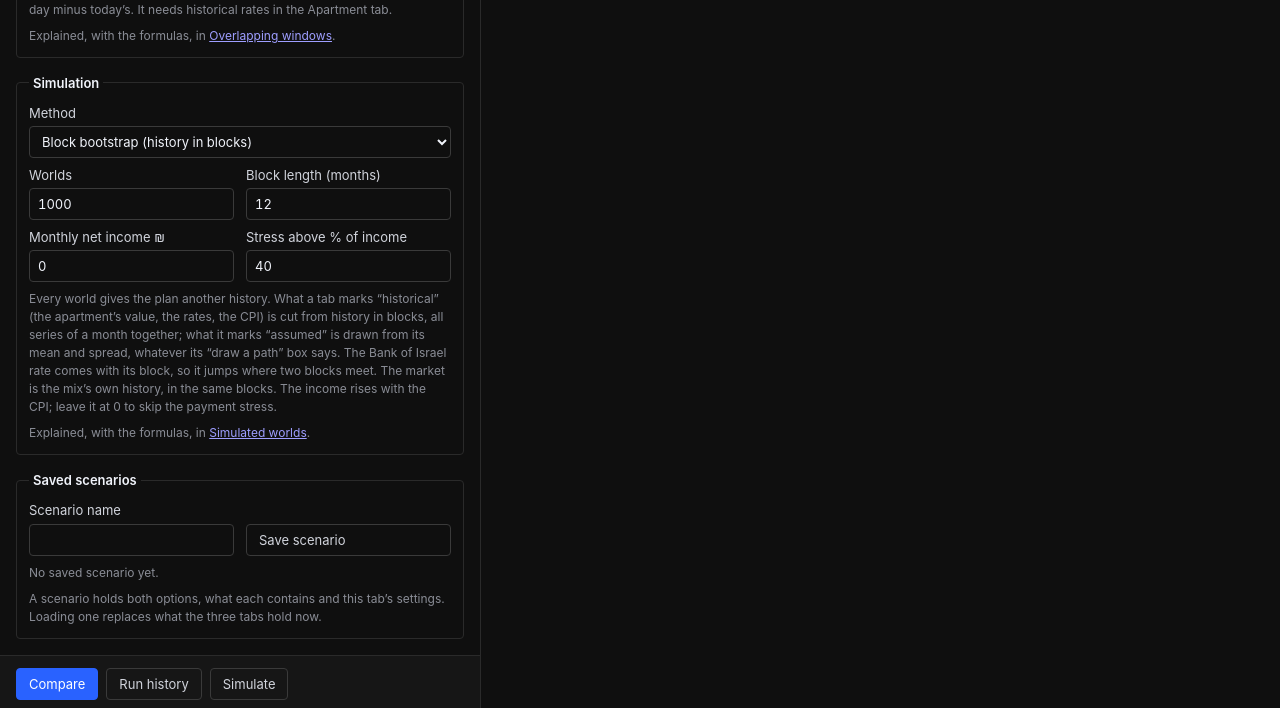
Scenario: PlannerCompare › shows why a comparison cannot run and drops the earlier results
(page scrolled)
Click the button "Compare".
click(57, 684)  # box [16,668,98,700]
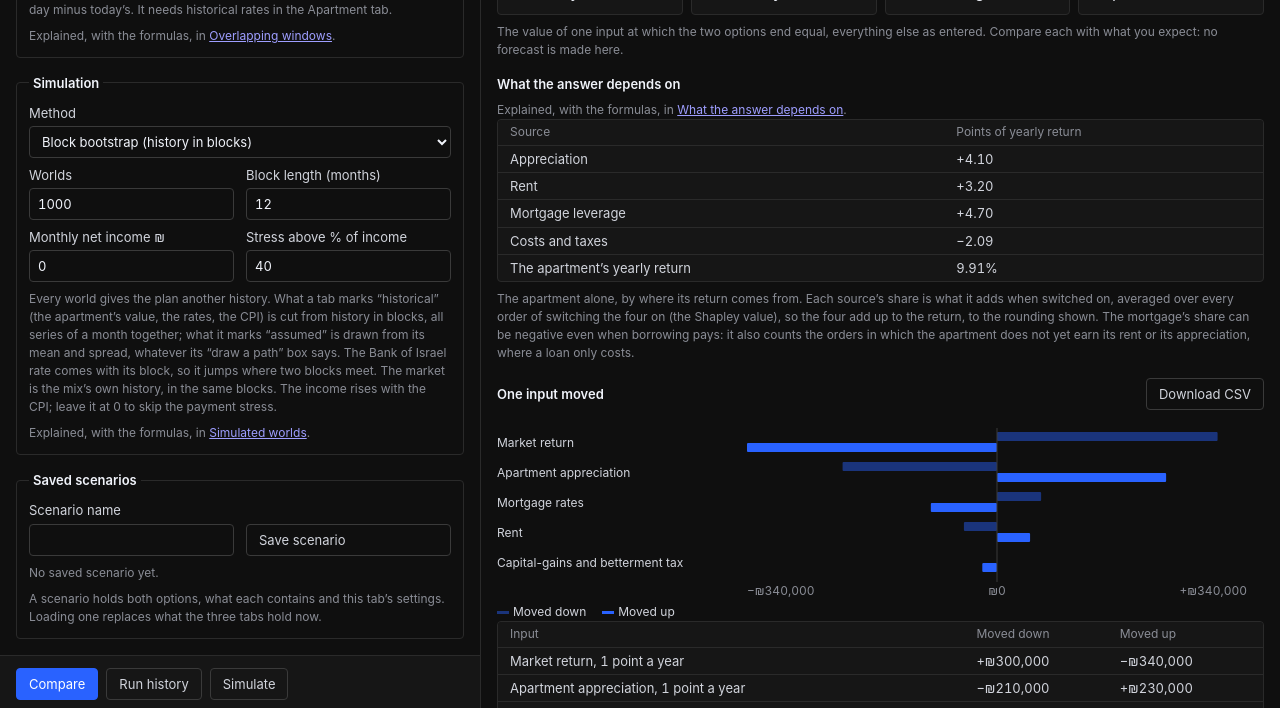
Click the button "Compare".
click(57, 684)  # box [16,668,98,700]
(page scrolled)
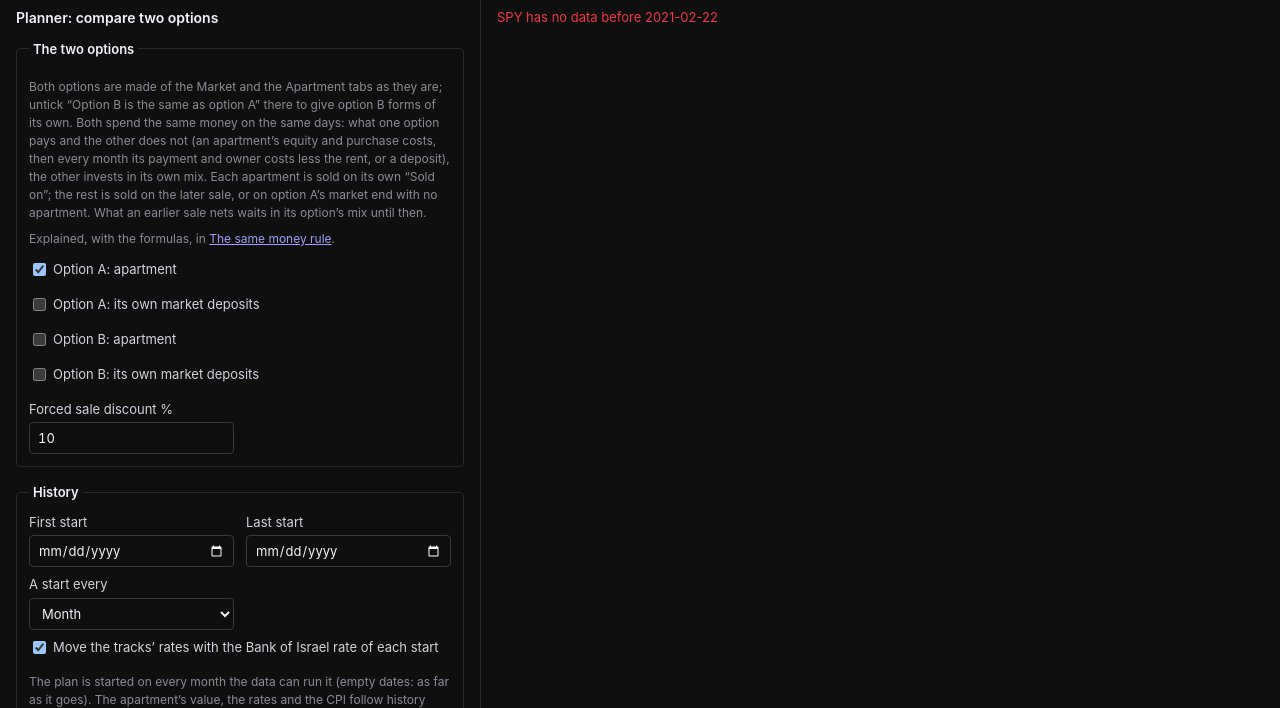
Check: the message shows "SPY has no data before", box [497,9,718,25]
